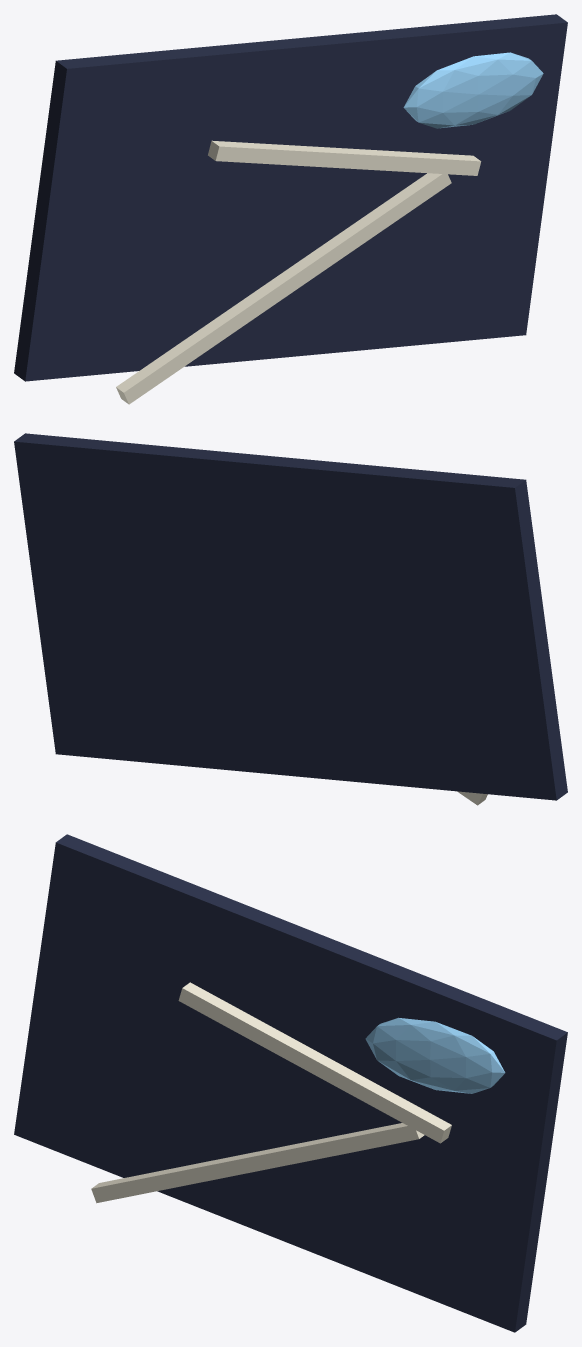
The model's file is 06_weathering_wear_overlay_6.glb.
The picture shows the model from 3 angles, top to bottom: view 1: azimuth 30°, elevation 25°; view 2: azimuth 150°, elevation 25°; view 3: azimuth 330°, elevation 25°; orthographic projection.
Visible parts, largest first — view 1: wear_plate, scratch_a, rust_or_moss_spot, scratch_b; view 2: wear_plate; view 3: wear_plate, rust_or_moss_spot, scratch_b, scratch_a.
Part boxes in pixels (bbox=[...]): wear_plate: bbox=[14, 14, 567, 381]; scratch_a: bbox=[116, 173, 451, 404]; rust_or_moss_spot: bbox=[403, 52, 543, 128]; scratch_b: bbox=[208, 140, 481, 175]; wear_plate: bbox=[14, 433, 567, 800]; wear_plate: bbox=[14, 834, 567, 1332]; rust_or_moss_spot: bbox=[365, 1017, 505, 1093]; scratch_b: bbox=[178, 982, 451, 1143]; scratch_a: bbox=[91, 1123, 424, 1203].
Size of the model in its own units: 1.39 by 0.9285 by 0.134.
